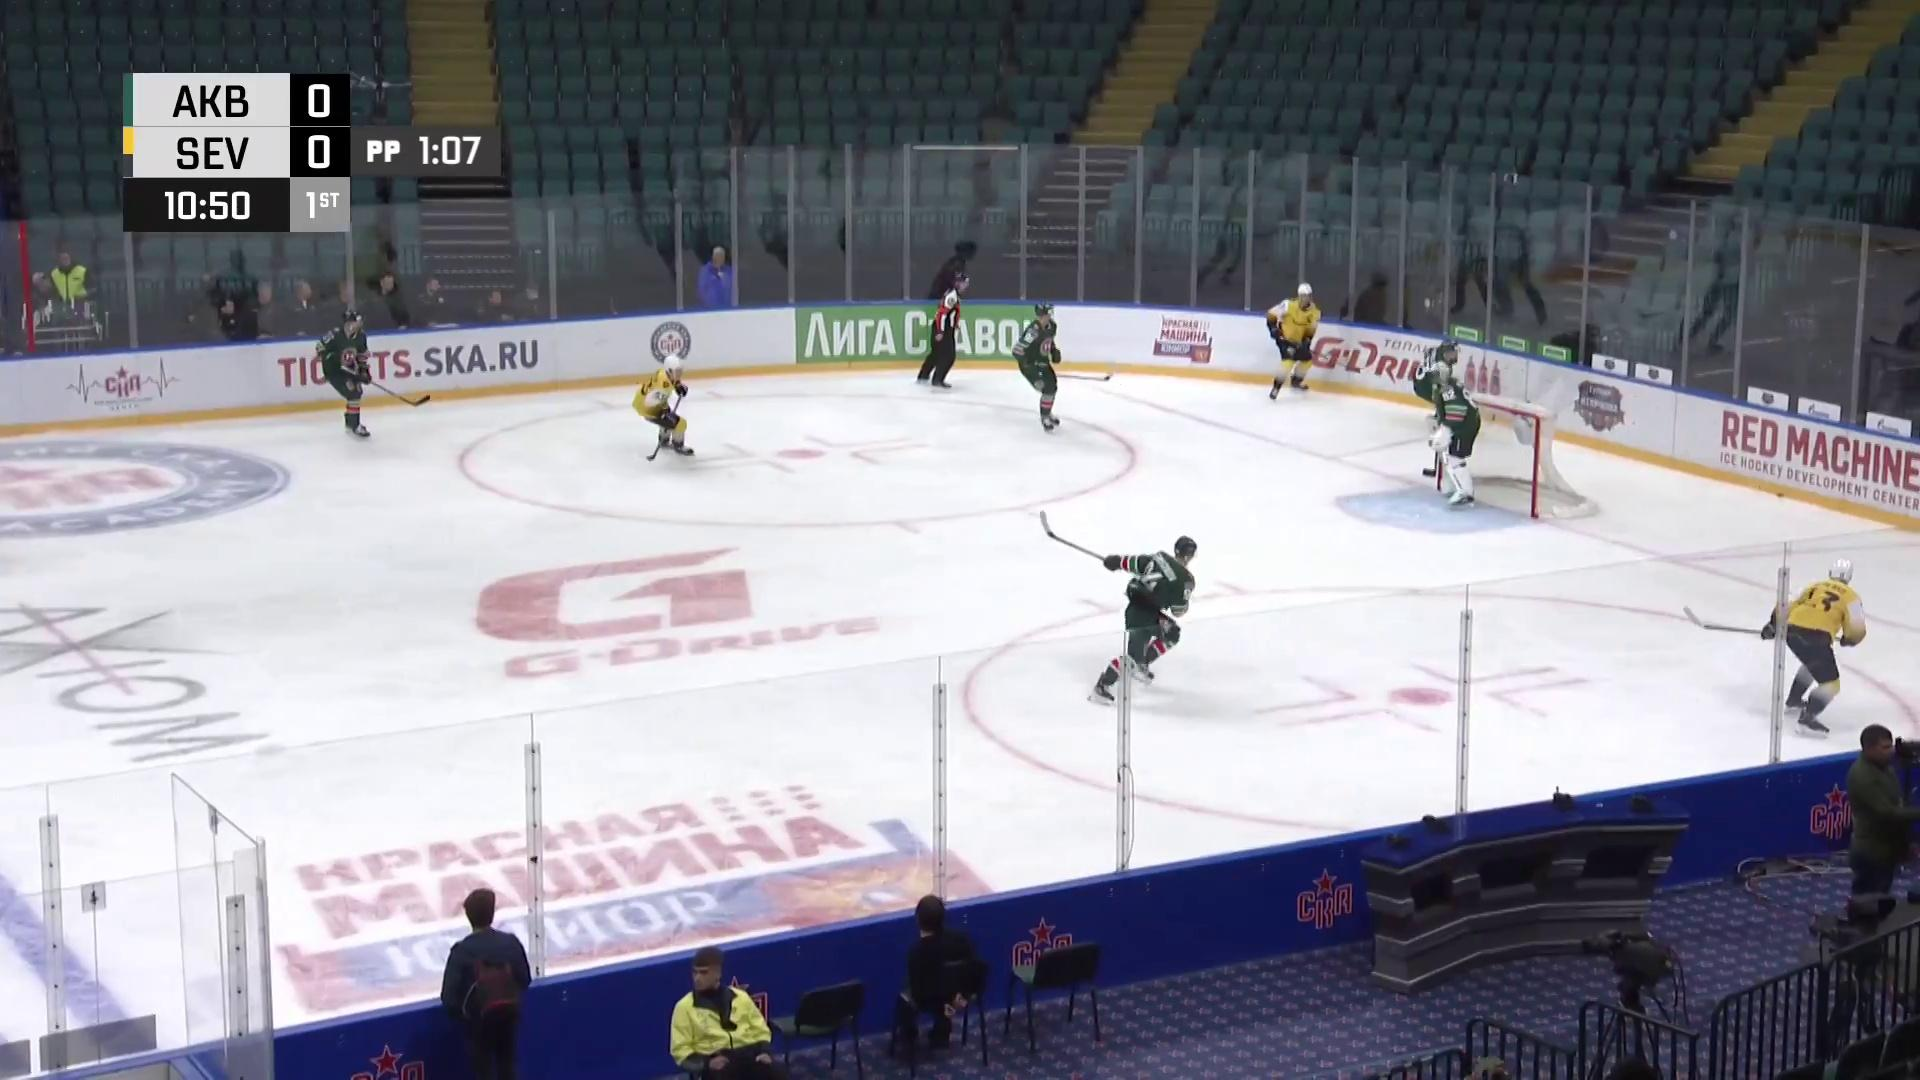ball: (1776, 492, 1784, 498)
